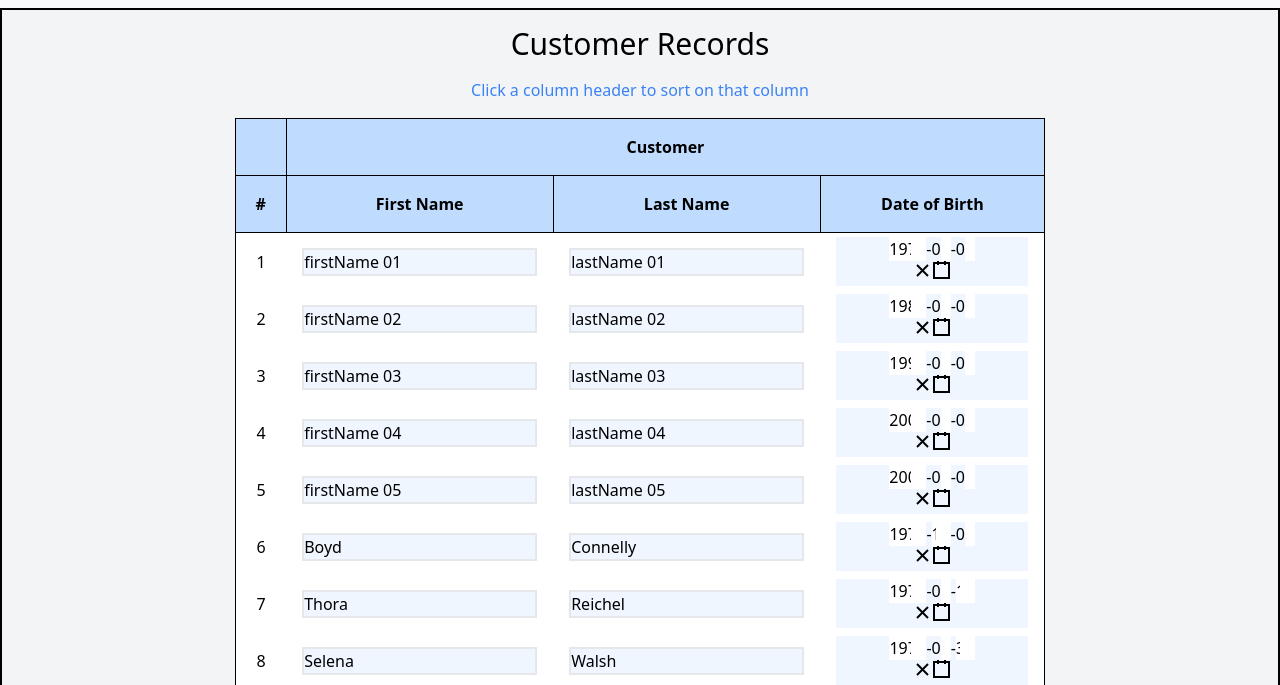
Test case: it should edit three fields › should handle empty first name value
This screenshot has width=1280, height=685.
Clear the 1st field named "firstName" at (420, 262), box x1=302 y1=248 x2=537 y2=276
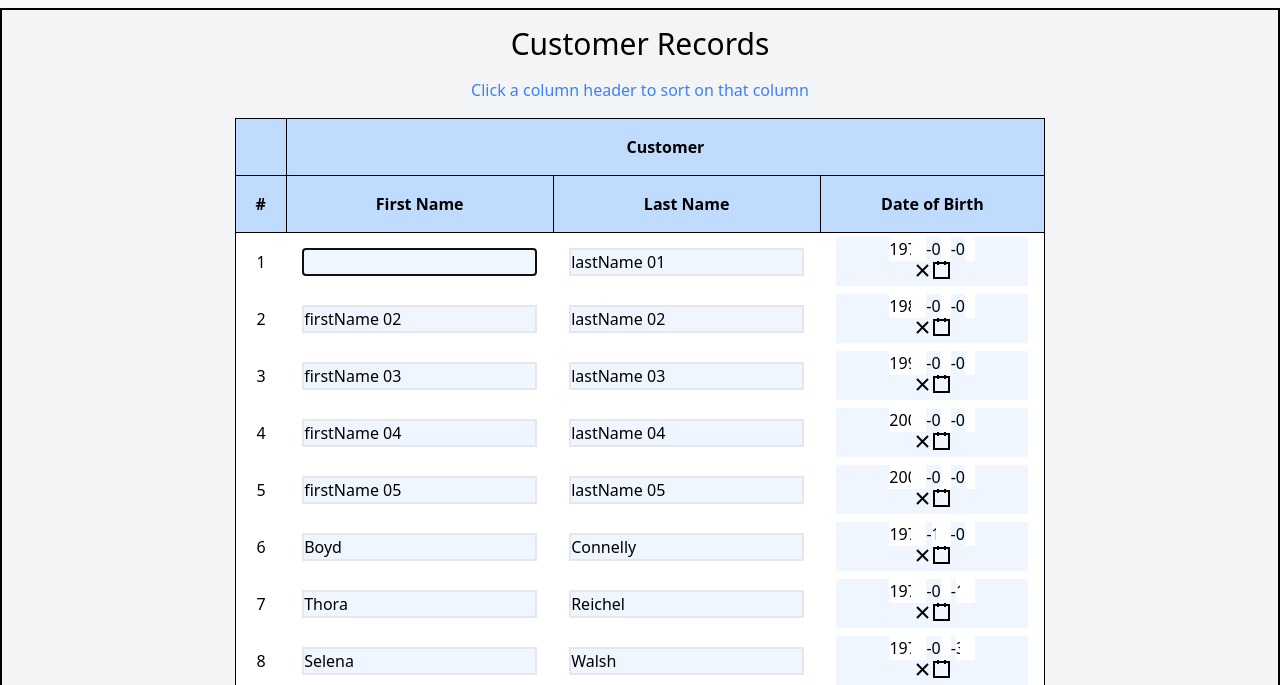
Press Tab
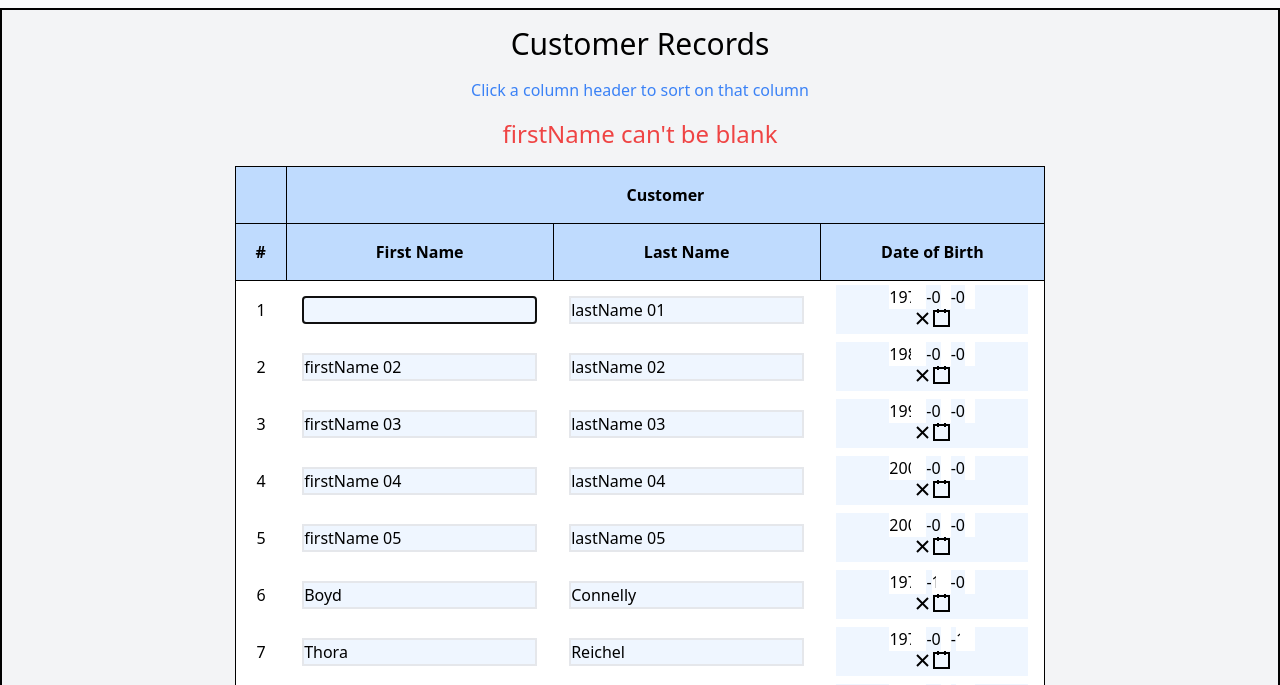
expect the message named "flash-error-display" reads "firstName can't be blank": met, box x1=502 y1=117 x2=777 y2=150
